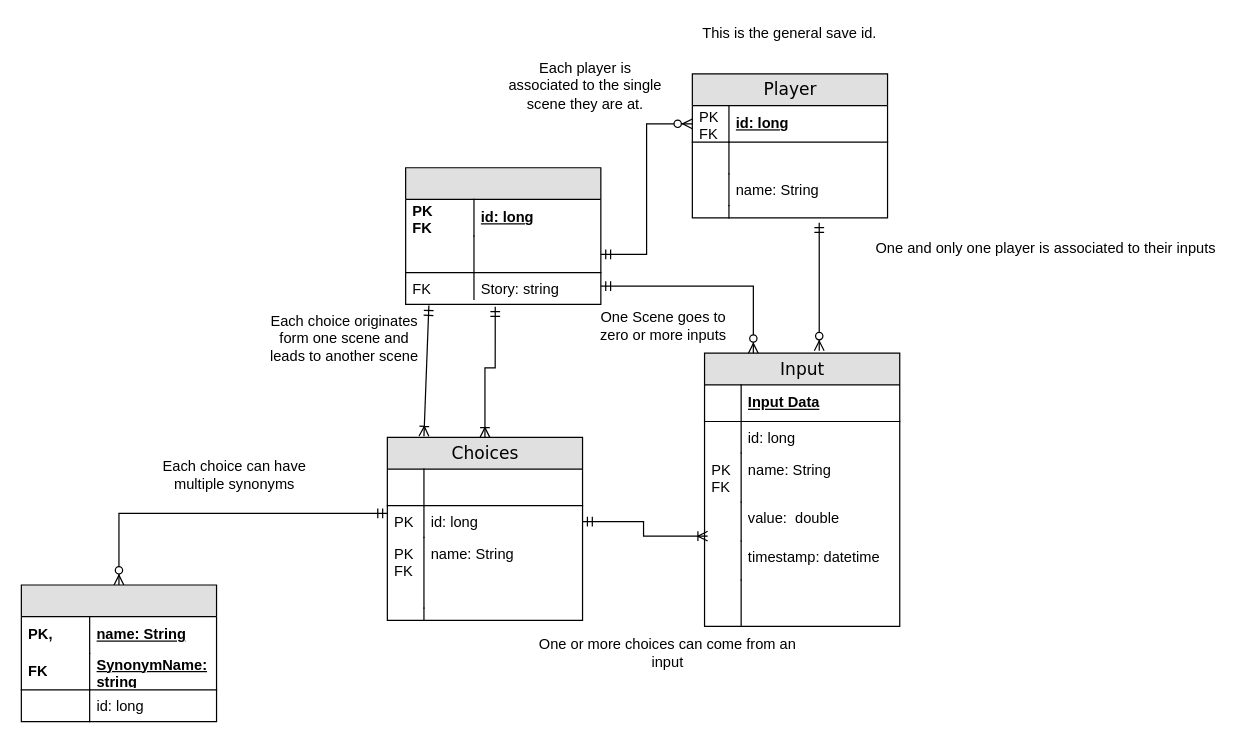
Some shapes in this 1251 by 745 pixel diagram are drawn without their labels. The box of each missing label's shape, as (x1, y1, x2, y2) in pixels:
ChoiceSynonyms: (20, 584, 217, 722)
Scene: (404, 167, 601, 304)
